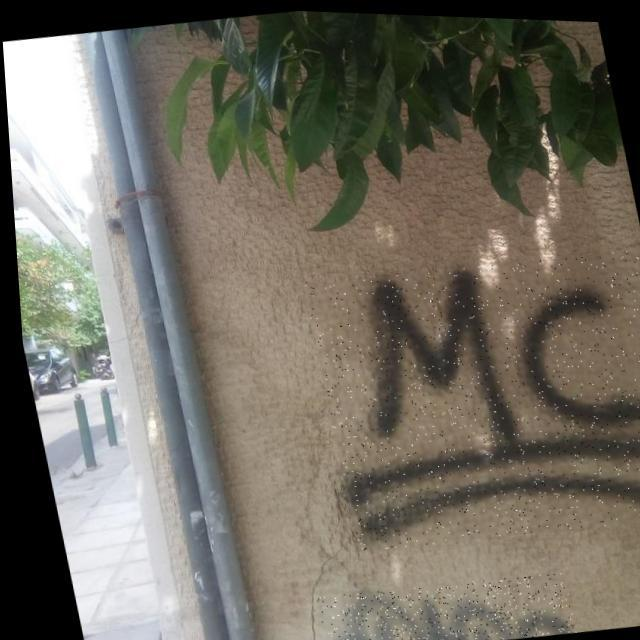-: (297, 234, 640, 558), (304, 560, 570, 640)
